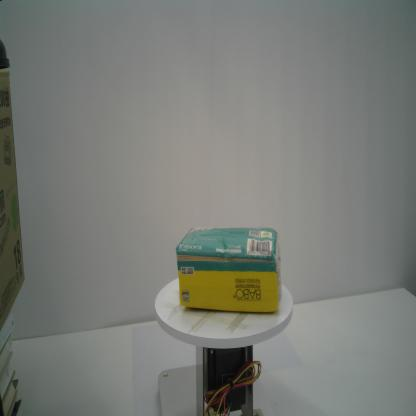Tissue: (175, 226, 283, 314)
